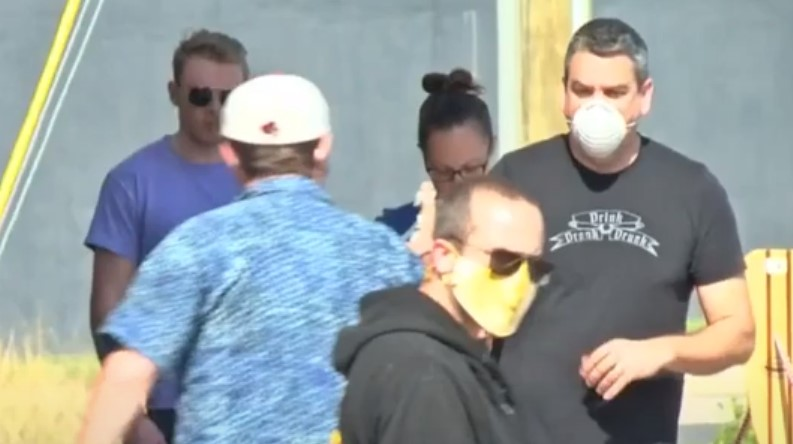face_with_mask: (432, 177, 553, 339), (564, 17, 654, 165)
